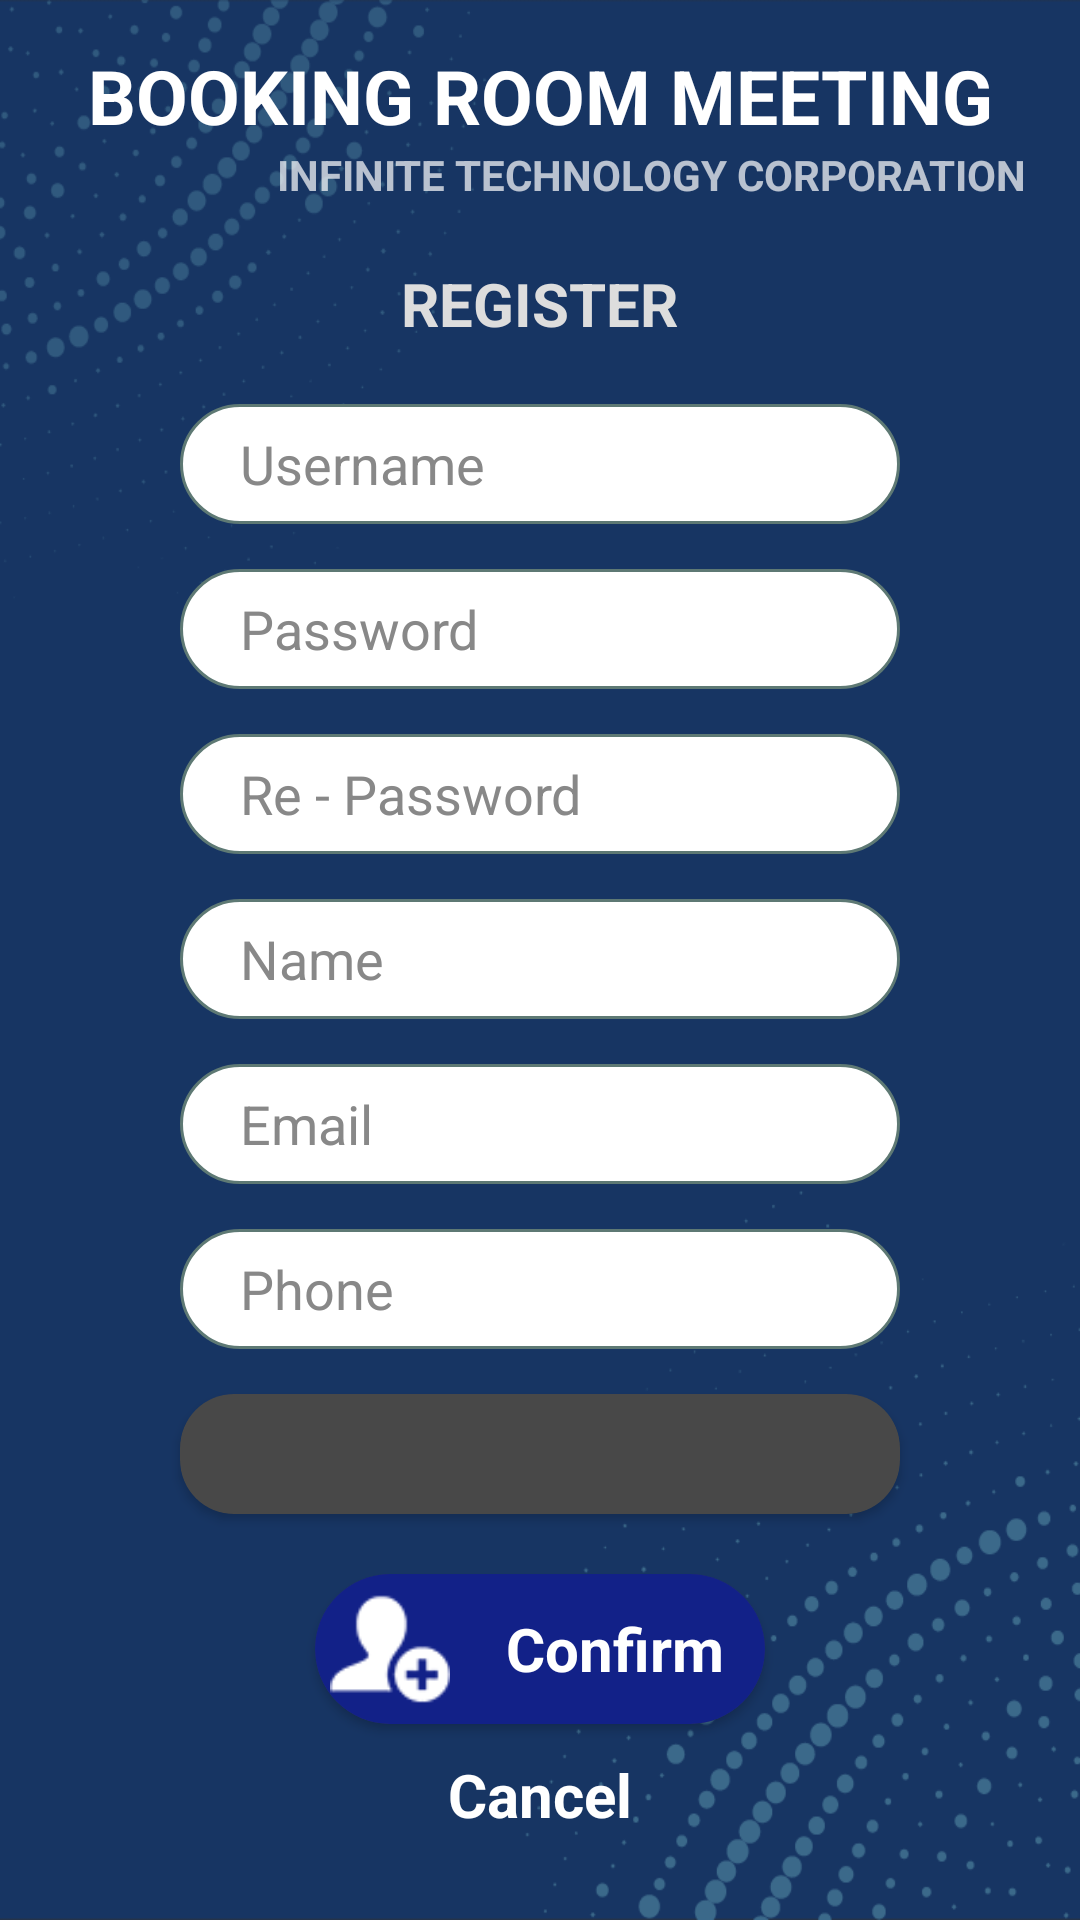

Point at icon controls on the screen. Image size 1080px×1920px, points as point (x, y).
register: point (390, 1649)
